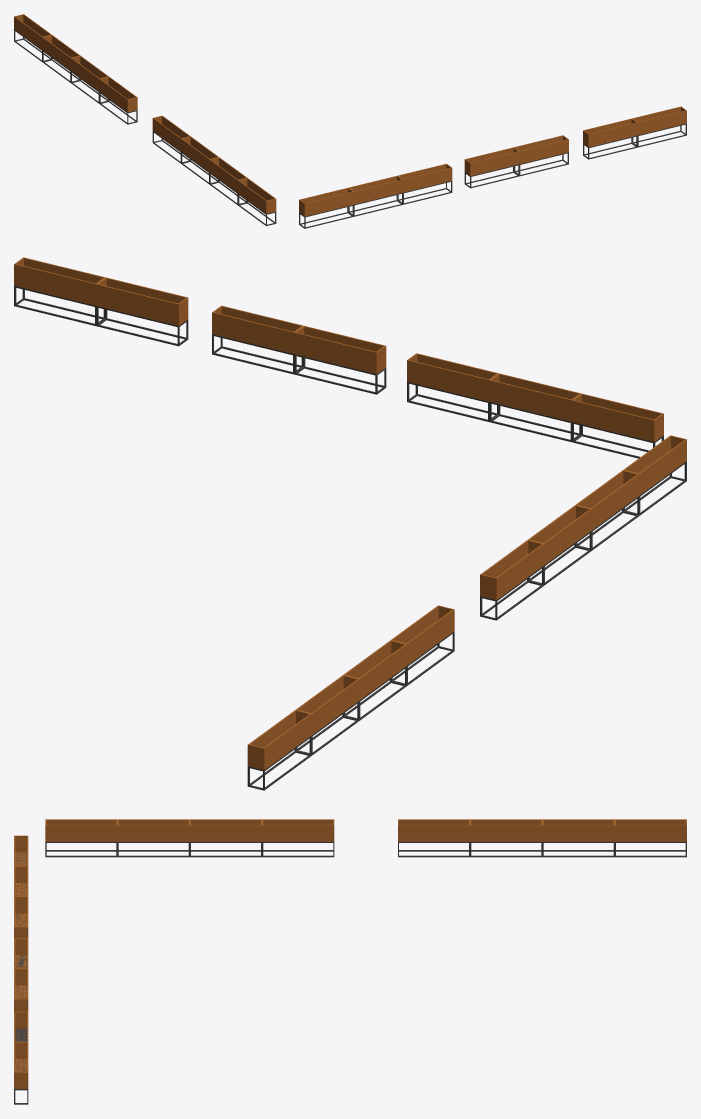
The model's file is BP_planters 2.FBX.
3 views of the same model, one above another, from view 1: azimuth 30°, elevation 25°; view 2: azimuth 150°, elevation 25°; view 3: azimuth 270°, elevation 25° (orthographic). The views are drawn at different scales.
Visible parts, largest first — view 1: Group2291, Group2300, Group2282, Group2288, Group2297, Group2294, Group2285, Group2258, Group2279, Group2273, Group2264, Group2261 (+3 smaller); view 2: Group2300, Group2291, Group2282, Group2297, Group2285, Group2288, Group2294, Group2267, Group2273, Group2270, Group2279, Group2276 (+3 smaller); view 3: Group2264, Group2261, Group2258, Group2267, Group2270, Group2273, Group2279, Group2276, Group2297, Group2294, Group2288, Group2285 (+2 smaller).
Part boxes in pixels (x1,y1,x2,y2): Group2291: [464, 147, 519, 176]; Group2300: [583, 118, 637, 147]; Group2282: [299, 188, 353, 216]; Group2288: [398, 163, 452, 192]; Group2297: [632, 106, 686, 135]; Group2294: [514, 135, 568, 163]; Group2285: [348, 175, 402, 204]; Group2258: [99, 76, 137, 112]; Group2279: [238, 178, 276, 213]; Group2273: [152, 115, 190, 151]; Group2264: [42, 35, 79, 70]; Group2261: [71, 55, 108, 91]; Group2300: [96, 277, 188, 325]; Group2291: [294, 326, 386, 374]; Group2282: [572, 393, 663, 441]; Group2297: [14, 257, 105, 305]; Group2285: [489, 373, 580, 421]; Group2288: [407, 353, 498, 401]; Group2294: [212, 305, 303, 353]; Group2267: [247, 710, 311, 770]; Group2273: [480, 540, 544, 600]; Group2270: [576, 470, 639, 530]; Group2279: [623, 435, 686, 495]; Group2276: [528, 505, 591, 564]; Group2264: [542, 819, 614, 841]; Group2261: [470, 819, 542, 841]; Group2258: [398, 819, 470, 841]; Group2267: [614, 819, 686, 841]; Group2270: [117, 819, 189, 841]; Group2273: [262, 819, 334, 841]; Group2279: [45, 819, 117, 841]; Group2276: [190, 819, 261, 841]; Group2297: [14, 1042, 28, 1088]; Group2294: [14, 969, 28, 1011]; Group2288: [14, 896, 28, 938]; Group2285: [14, 866, 28, 896].
Bounding box in the file's own units: 498 × 29.16 × 559.
